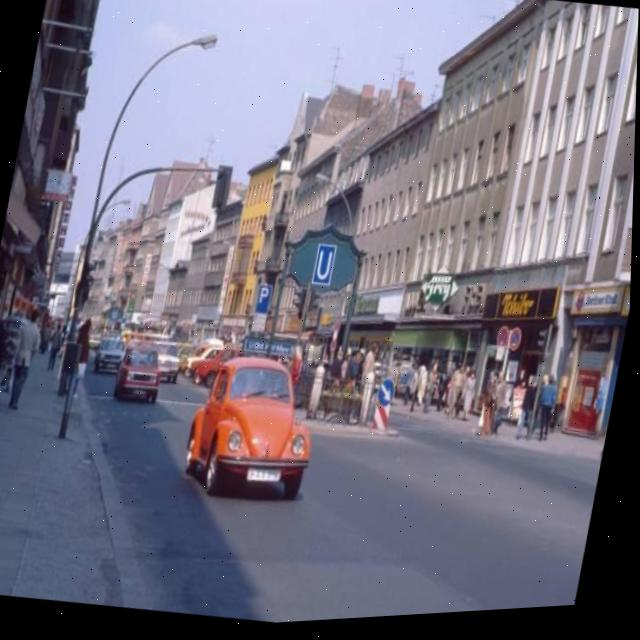vehicle: (181, 347, 334, 513), (113, 342, 171, 400)
